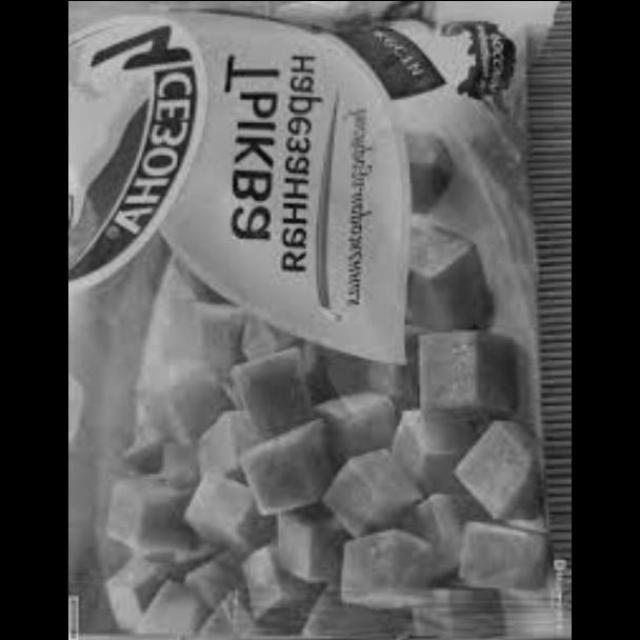pumpkin: (97, 273, 543, 639), (392, 231, 503, 340), (469, 100, 542, 214), (396, 121, 463, 214)
